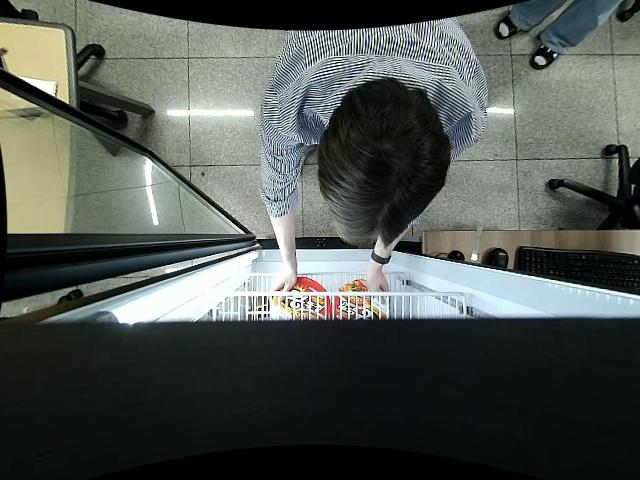00_hand: (269, 268, 299, 303), (369, 272, 391, 305)
10_wangTtukkeong: (273, 278, 331, 321), (336, 282, 388, 321)
